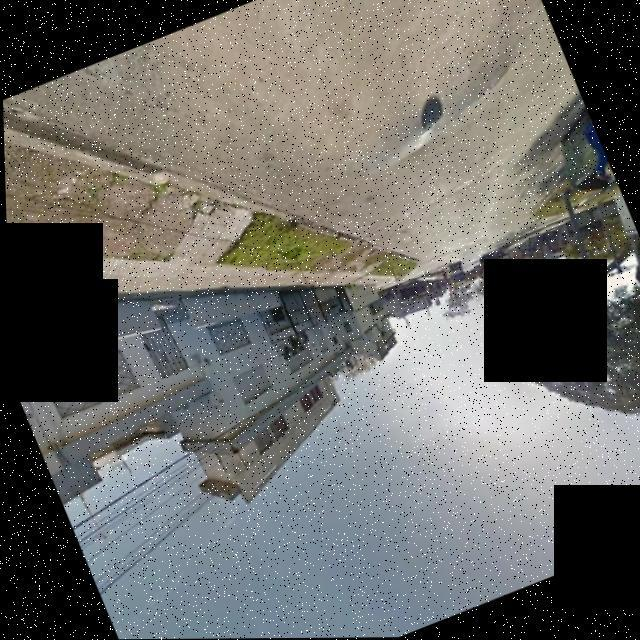bin: (524, 81, 623, 221)
